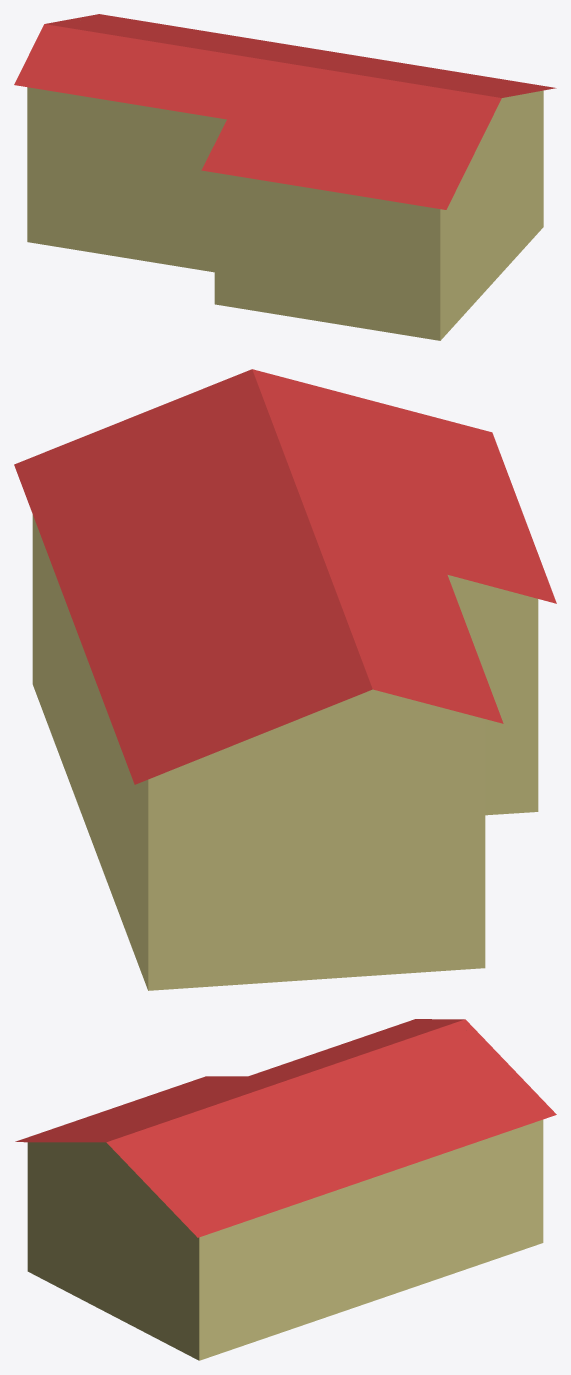
3 renders of one model, top to bottom at view 1: azimuth 30°, elevation 25°; view 2: azimuth 150°, elevation 25°; view 3: azimuth 270°, elevation 25°, orthographic. The views are drawn at different scales.
Visible parts, largest first — view 1: group_5, group_3, group_4; view 2: group_3, group_5, group_4; view 3: group_5, group_3, group_4.
Part boxes in pixels (bbox=[...]): group_5: bbox=[27, 87, 543, 340]; group_3: bbox=[14, 16, 542, 209]; group_4: bbox=[45, 14, 556, 98]; group_3: bbox=[32, 369, 556, 771]; group_5: bbox=[32, 515, 538, 990]; group_4: bbox=[14, 370, 372, 784]; group_5: bbox=[27, 1119, 543, 1360]; group_3: bbox=[15, 1019, 542, 1237]; group_4: bbox=[106, 1019, 556, 1237].
Size of the model in its own units: 23.92 by 27.87 by 10.
